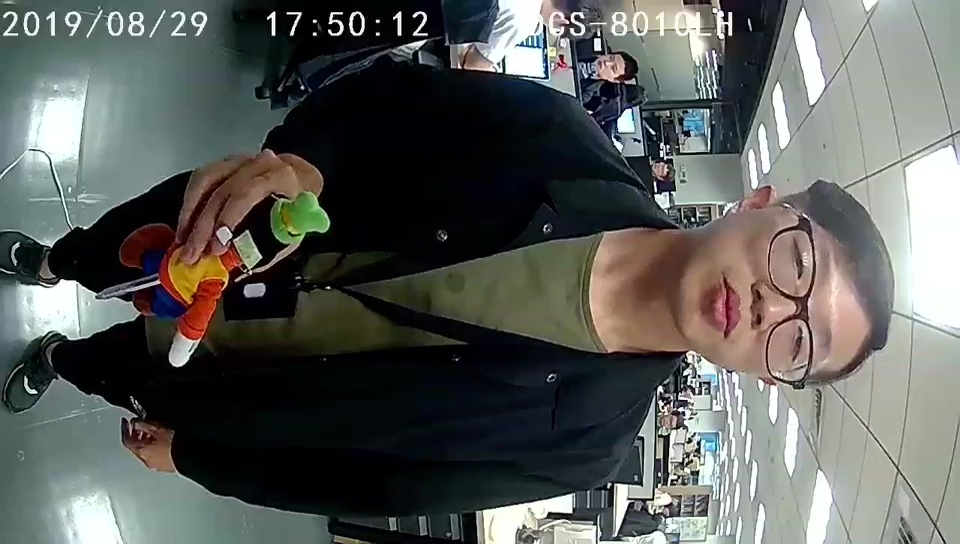goofy: (117, 191, 332, 369)
